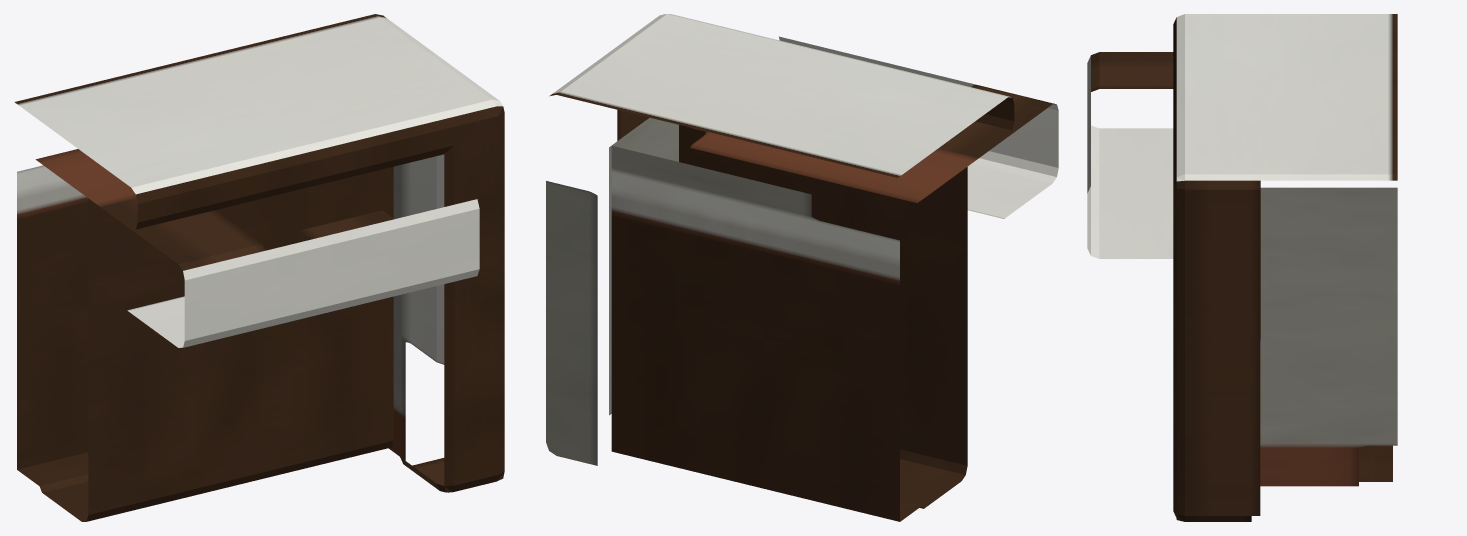
3 views of the same model, side by side, from view 1: azimuth 30°, elevation 25°; view 2: azimuth 150°, elevation 25°; view 3: azimuth 270°, elevation 25° (orthographic). The views are drawn at different scales.
Bounding box in the file's own units: 0.8358 × 0.8199 × 0.7807.
